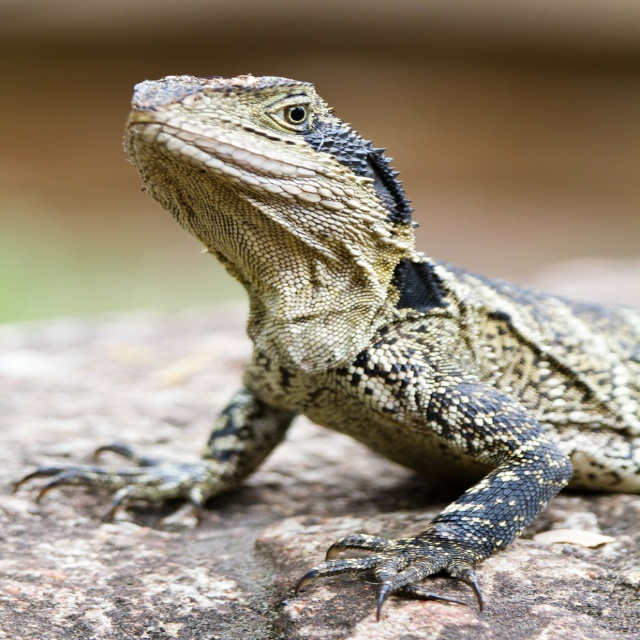Lizard: (61, 86, 617, 640)
